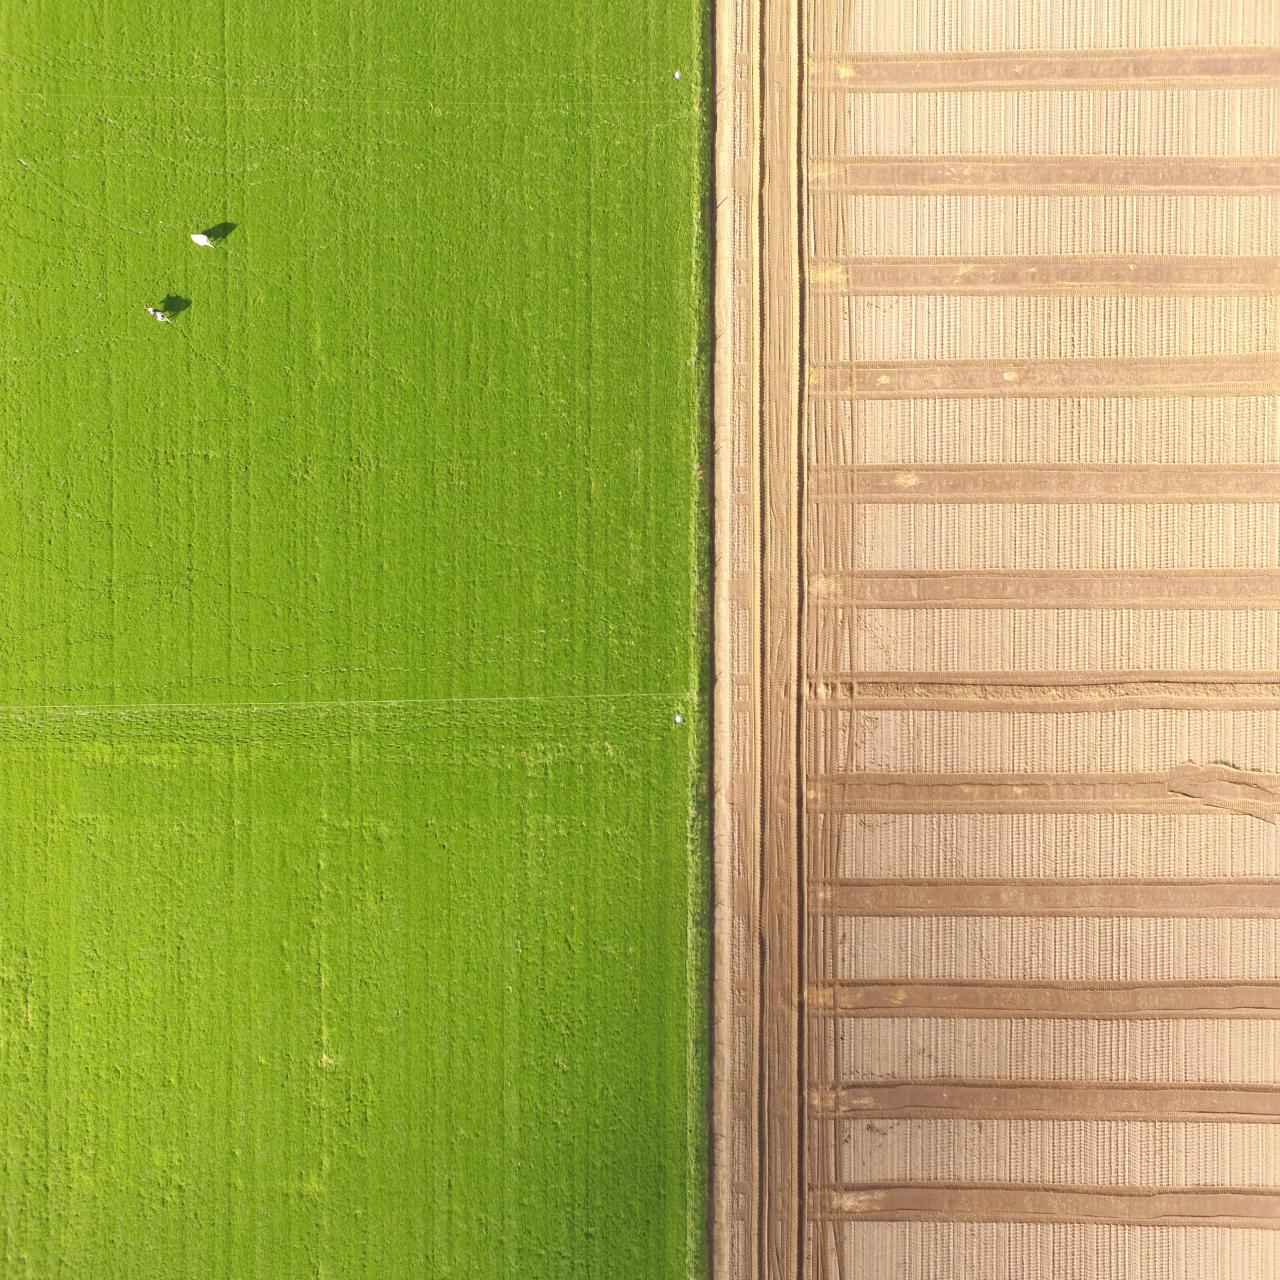cow: (144, 304, 172, 326), (189, 232, 215, 250)
